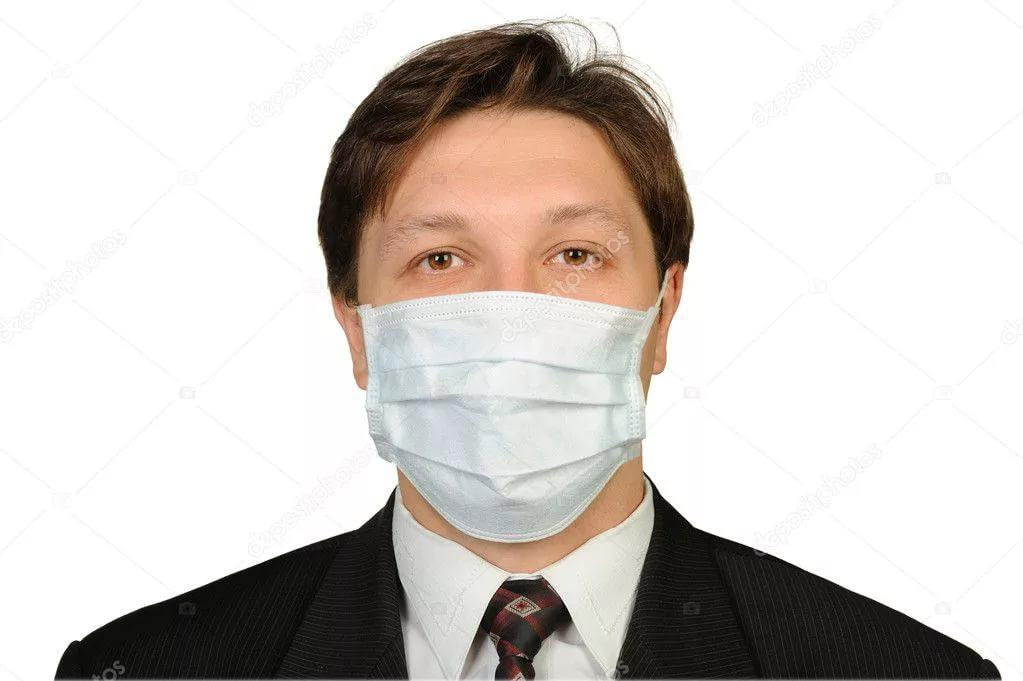mask: (349, 124, 672, 540)
